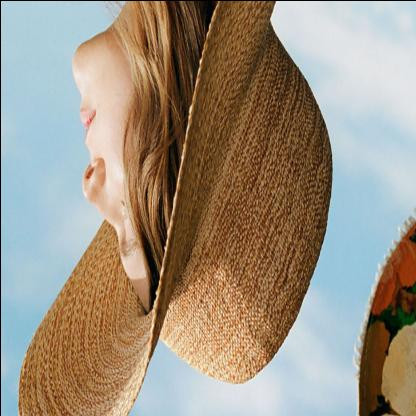hat: (16, 0, 334, 416)
